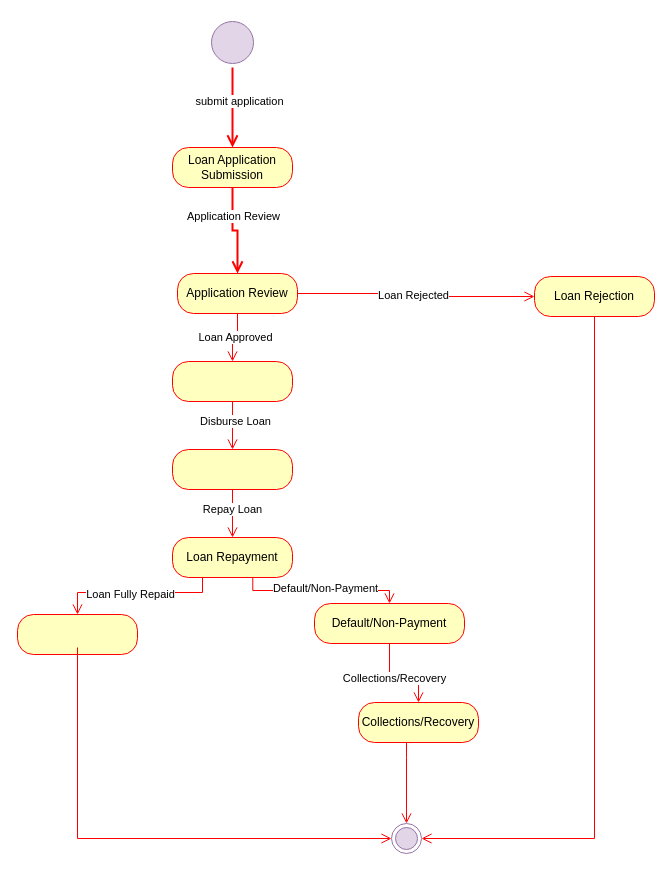
The diagram is 672 pixels wide and 871 high, and some of its shapes have lost their labels. Here are the shapes that lost their labels. From the top down, the centre of each, then its label:
At point (232, 381): "Loan Approval".
At point (232, 469): "Loan Disbursement".
At point (77, 634): "Loan Closure".
